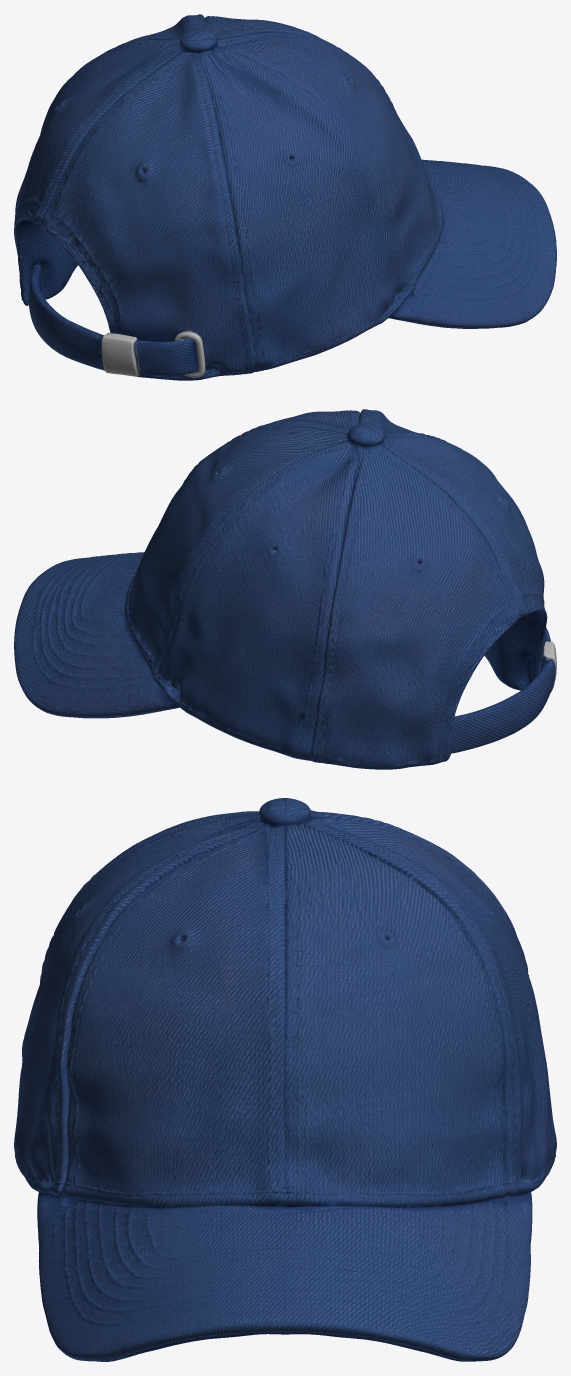
Rendered from GORRA-DE-DRILL.glb.
3 views of the same model, one above another, from view 1: azimuth 30°, elevation 25°; view 2: azimuth 150°, elevation 25°; view 3: azimuth 270°, elevation 25° (orthographic). The views are drawn at different scales.
Visible parts, largest first — view 1: tripo_node_9a533a9c-ab0d-48f5-8c37-8610708eb1b5; view 2: tripo_node_9a533a9c-ab0d-48f5-8c37-8610708eb1b5; view 3: tripo_node_9a533a9c-ab0d-48f5-8c37-8610708eb1b5.
Part boxes in pixels (bbox=[...]): tripo_node_9a533a9c-ab0d-48f5-8c37-8610708eb1b5: bbox=[14, 14, 556, 380]; tripo_node_9a533a9c-ab0d-48f5-8c37-8610708eb1b5: bbox=[14, 409, 556, 769]; tripo_node_9a533a9c-ab0d-48f5-8c37-8610708eb1b5: bbox=[14, 798, 556, 1361].
Bounding box in the file's own units: 0.9809 × 0.5577 × 0.7022.
Materials: 1 (1 with a texture image).
